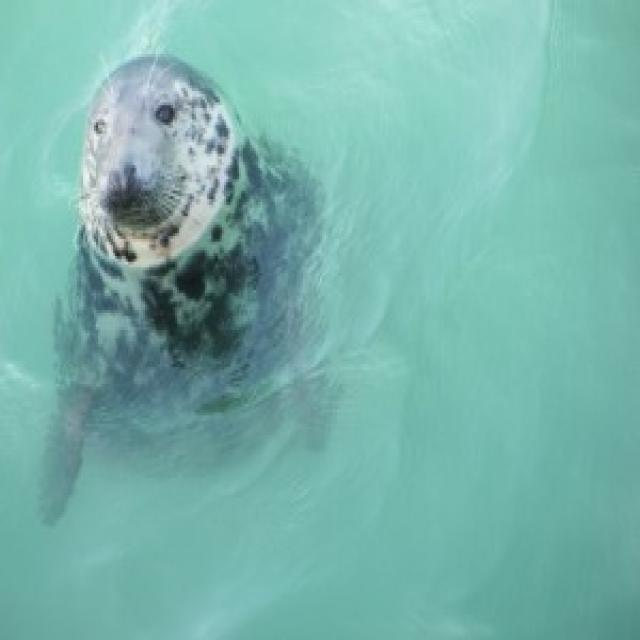Seal: (37, 38, 334, 536)
